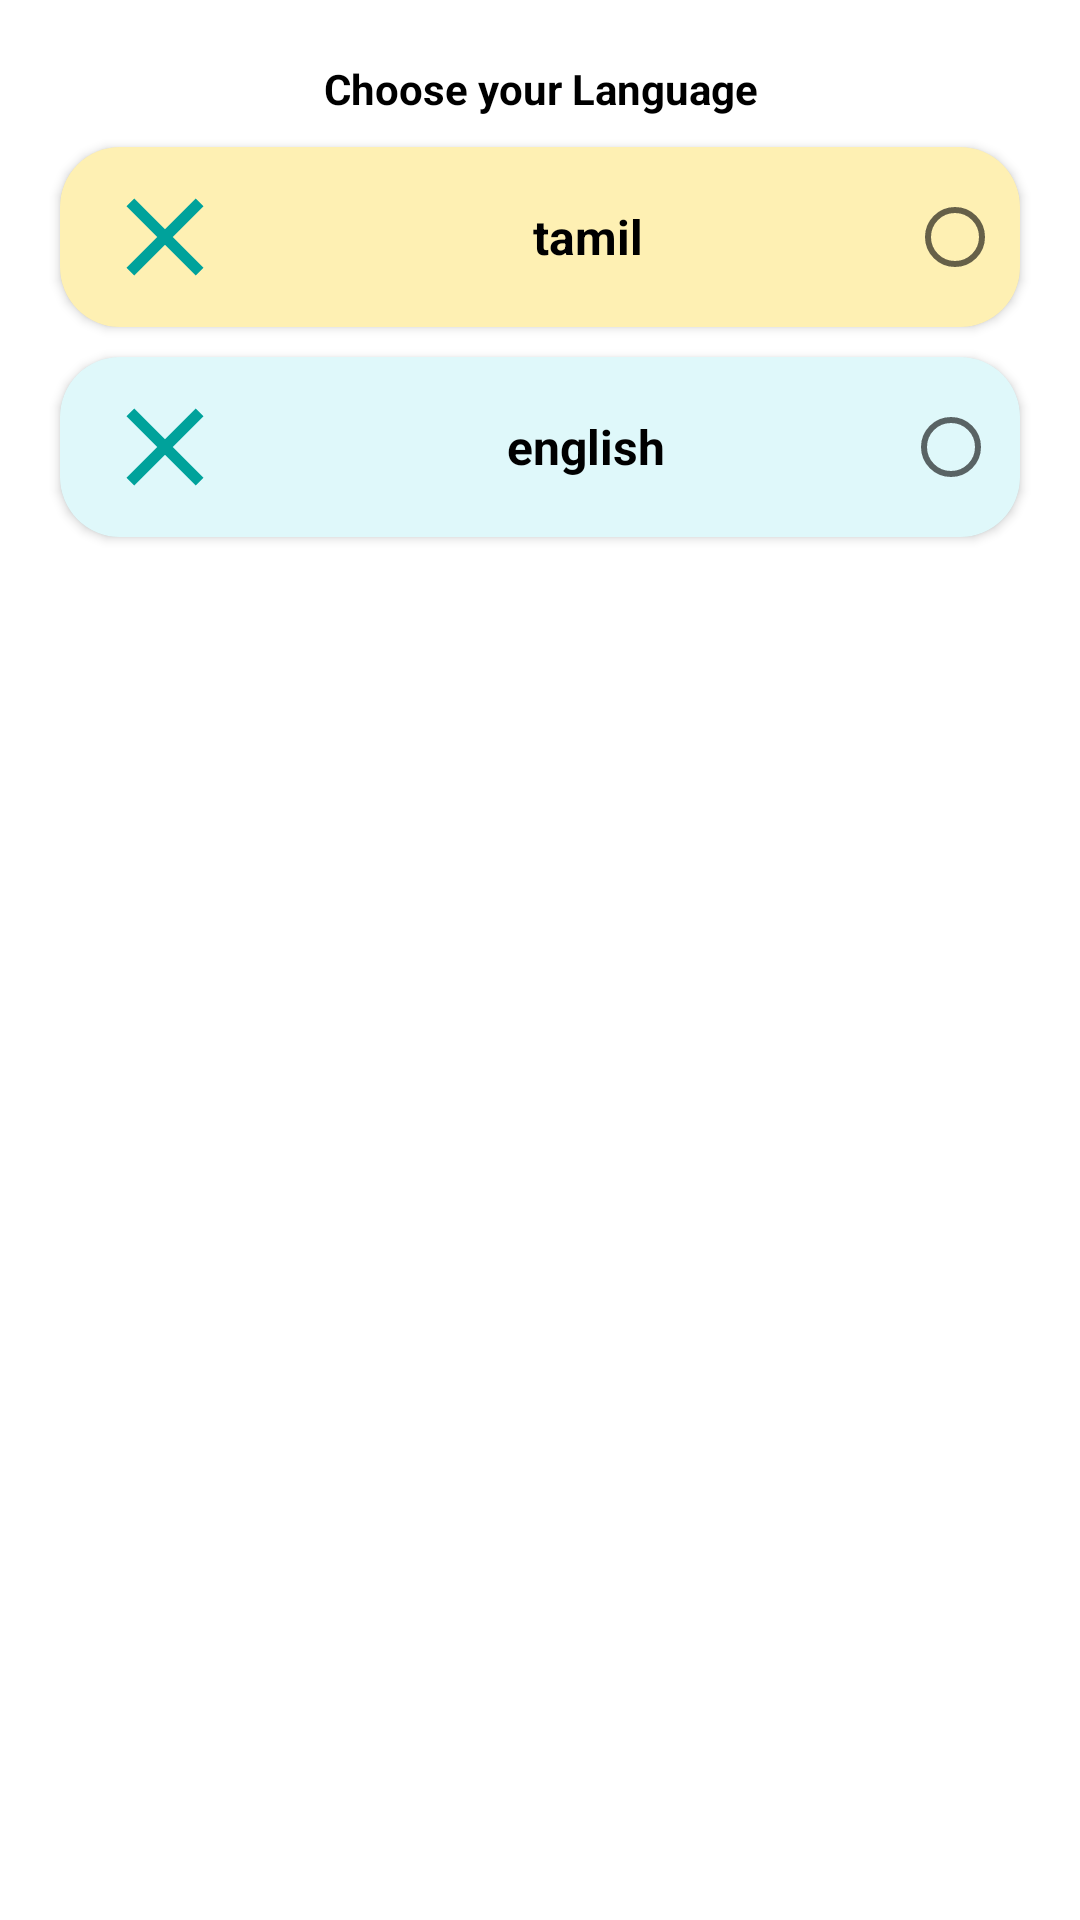

Icons on this 1080 × 1920 Android screen, each with its box as (x1, y1, x2, y2):
close: (60, 147, 270, 327), (60, 357, 270, 537)
